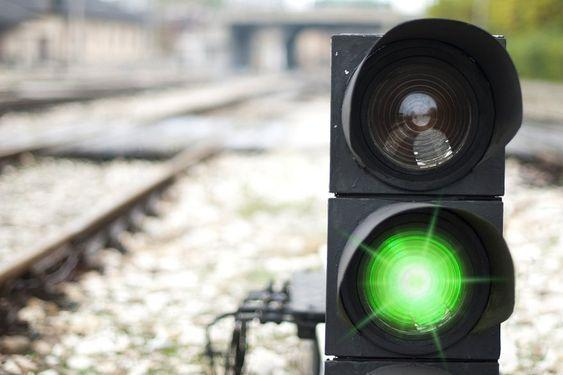green: (324, 20, 517, 375)
